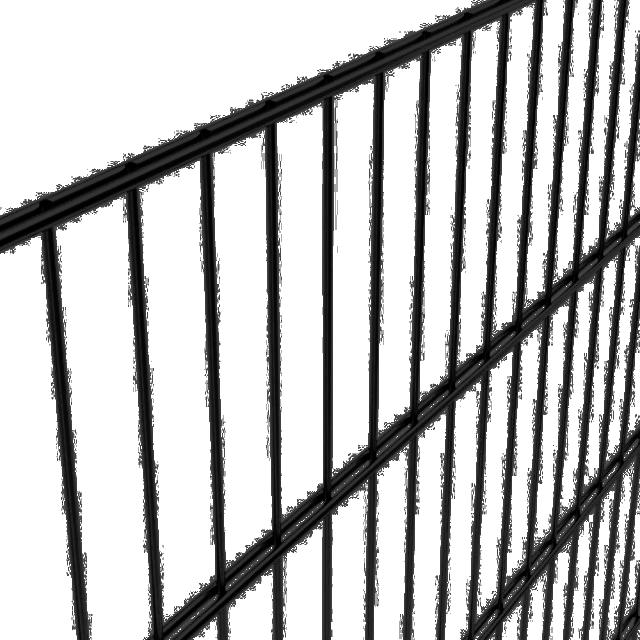fences: (15, 11, 638, 640)
